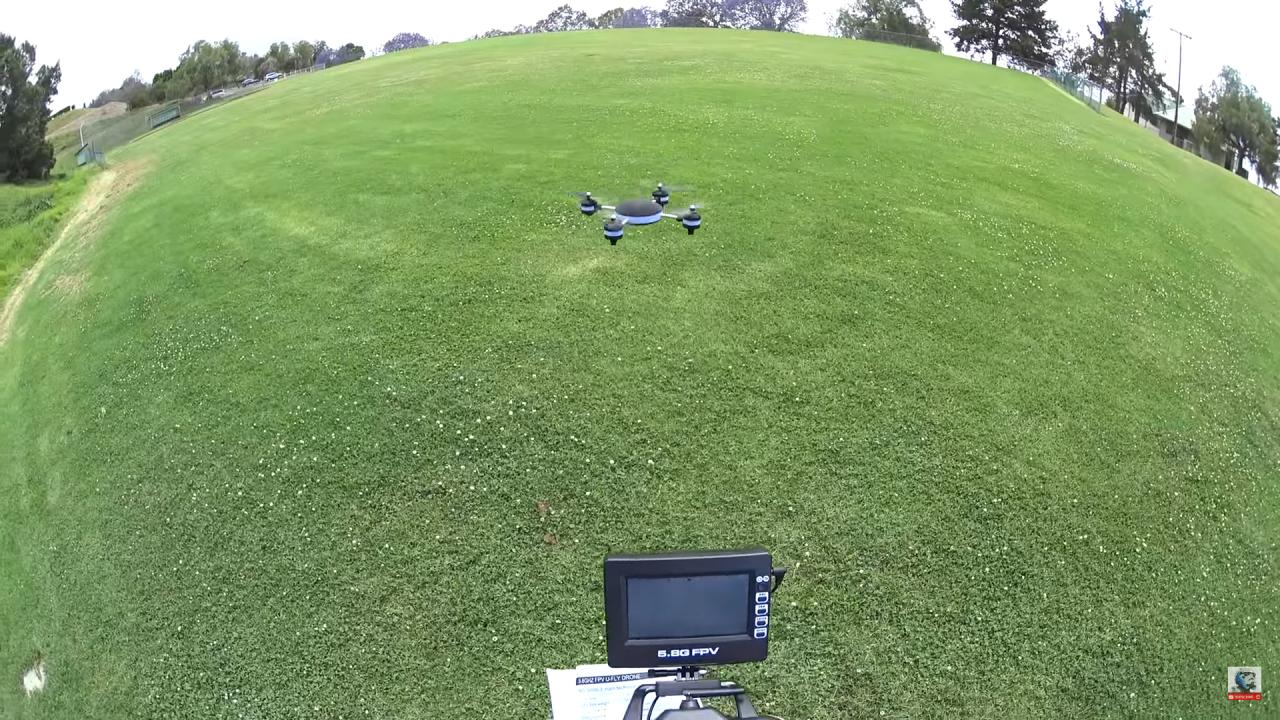Drone: (570, 170, 713, 254)
